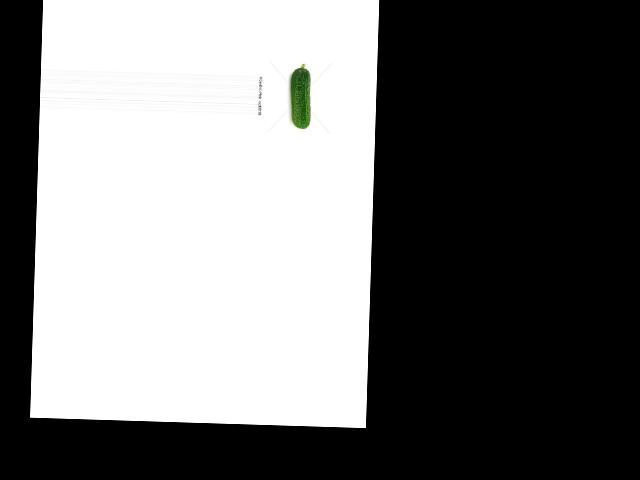cucumber: (289, 63, 311, 130)
